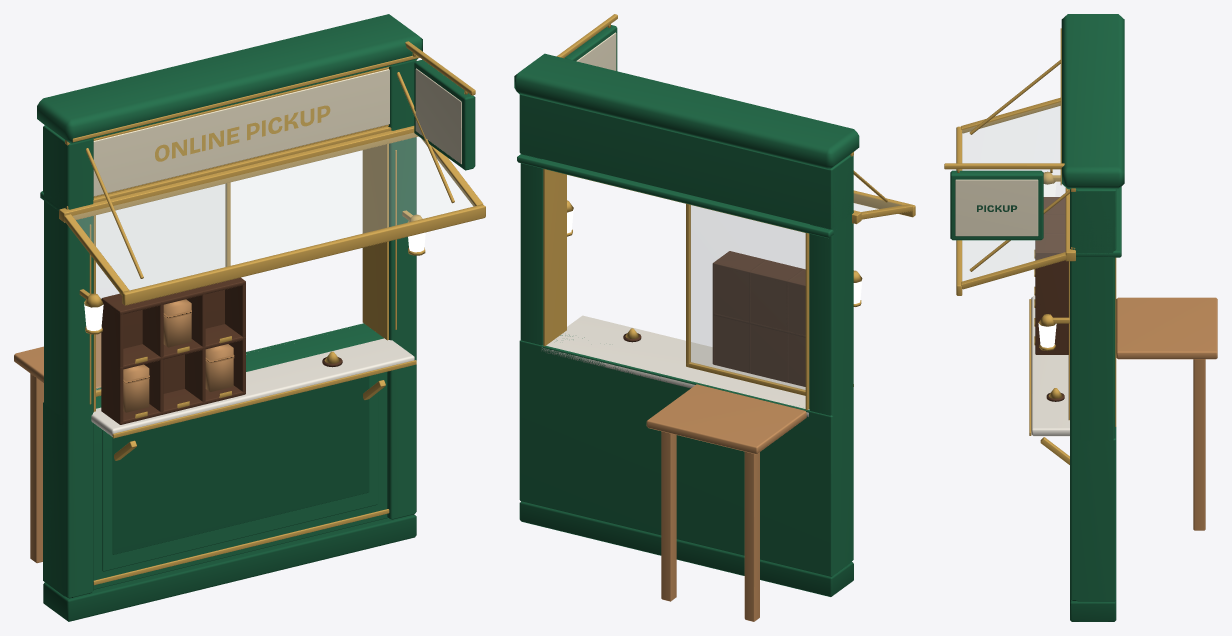
File: pickup_window_tier5.glb
The picture shows the model from 3 angles, left to right: view 1: azimuth 30°, elevation 25°; view 2: azimuth 150°, elevation 25°; view 3: azimuth 270°, elevation 25°; orthographic projection. The views are drawn at different scales.
Parts seen in each view (by area): view 1: CanopyGlass, KickInset, Pilaster-1, Cap, SignPanel, KickWall, Pilaster1, Pane, Plinth, KickPanel, Ledge, CanopyFront (+25 smaller); view 2: KickWall, SignBand, Pane, Cap, Pilaster-1, RackBack, Ledge, InnerShelf, Plinth, Pilaster1, Bead0.75, Header (+9 smaller); view 3: Pilaster1, Cap, CanopyGlass, KickWall, InnerShelf, BladePanel, Ledge, RackSide3, ShelfLeg-0.20, BladeFrame, SignBand, RackShelf2 (+9 smaller).
Boxes of the visible parts, bbox=[...] form: CanopyGlass: bbox=[73, 133, 474, 289]; KickInset: bbox=[112, 376, 369, 554]; Pilaster-1: bbox=[44, 129, 93, 598]; Cap: bbox=[37, 14, 422, 143]; SignPanel: bbox=[93, 69, 389, 196]; KickWall: bbox=[43, 323, 388, 596]; Pilaster1: bbox=[387, 60, 416, 519]; Pane: bbox=[96, 184, 225, 391]; Plinth: bbox=[43, 514, 416, 621]; KickPanel: bbox=[102, 374, 378, 571]; Ledge: bbox=[91, 328, 414, 436]; CanopyFront: bbox=[122, 204, 485, 305]; KickWall: bbox=[519, 335, 850, 576]; SignBand: bbox=[519, 94, 850, 229]; Pane: bbox=[690, 205, 805, 390]; Cap: bbox=[514, 53, 859, 169]; Pilaster-1: bbox=[809, 155, 853, 573]; RackBack: bbox=[713, 262, 805, 386]; Ledge: bbox=[541, 315, 809, 416]; InnerShelf: bbox=[646, 384, 806, 454]; Plinth: bbox=[519, 501, 853, 596]; Pilaster1: bbox=[520, 154, 543, 345]; Bead0.75: bbox=[543, 169, 566, 346]; Header: bbox=[517, 154, 833, 238]; Pilaster1: bbox=[1070, 189, 1115, 601]; Cap: bbox=[1061, 14, 1124, 189]; CanopyGlass: bbox=[962, 103, 1065, 280]; KickWall: bbox=[1077, 427, 1116, 601]; InnerShelf: bbox=[1116, 297, 1217, 359]; BladePanel: bbox=[955, 179, 1038, 236]; Ledge: bbox=[1031, 296, 1069, 436]; RackSide3: bbox=[1035, 251, 1068, 353]; ShelfLeg-0.20: bbox=[1193, 359, 1205, 530]; BladeFrame: bbox=[950, 170, 1043, 240]; SignBand: bbox=[1076, 189, 1116, 250]; RackShelf2: bbox=[1035, 198, 1065, 253].
Size of the model in its own units: 1.86 by 2.48 by 1.35.
